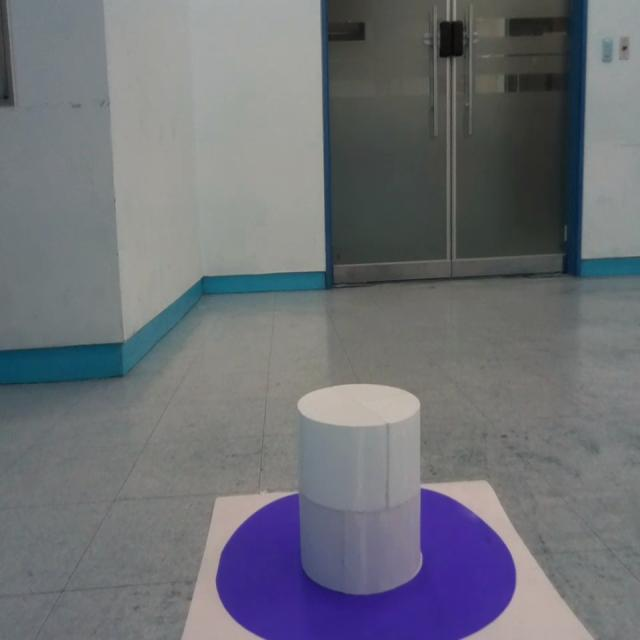cylinder: (296, 383, 423, 595)
